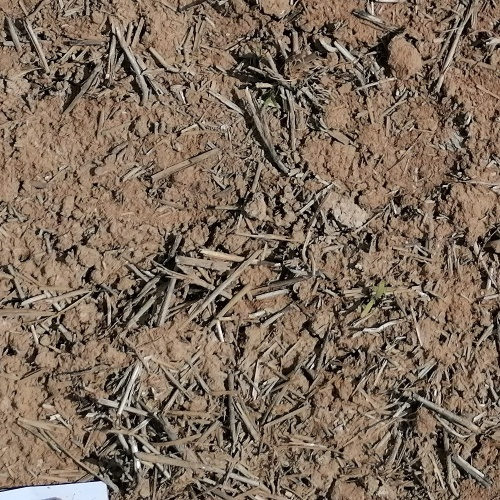beet: (362, 279, 385, 318)
